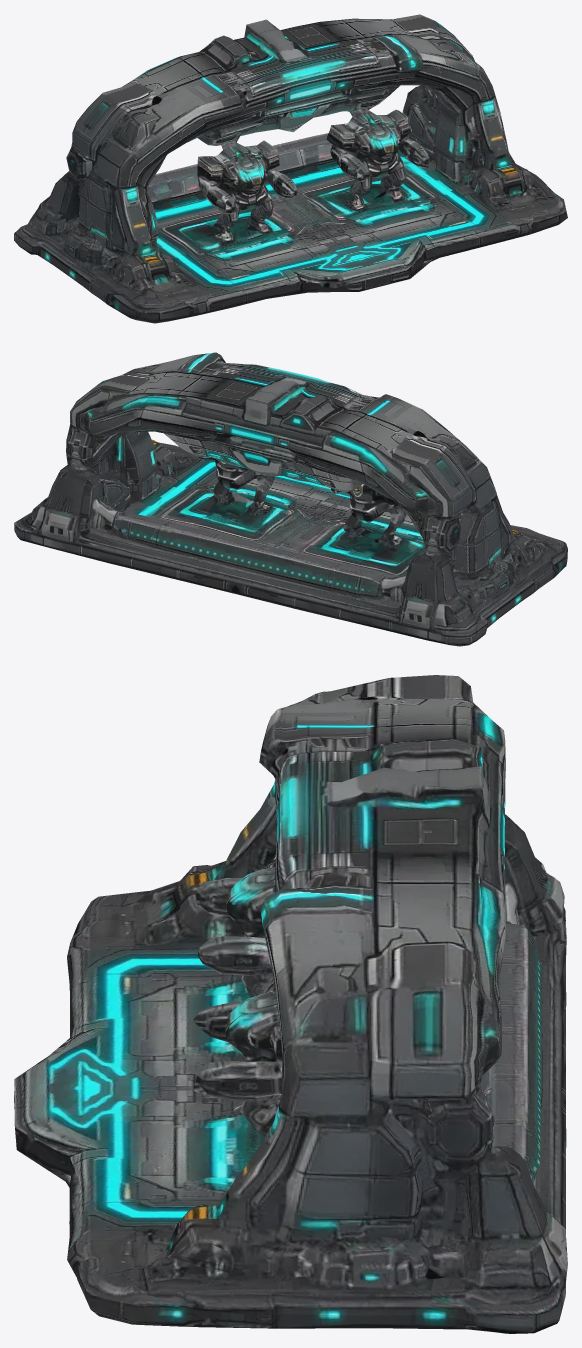
Rendered from army_camp.glb.
3 views of the same model, one above another, from view 1: azimuth 30°, elevation 25°; view 2: azimuth 150°, elevation 25°; view 3: azimuth 270°, elevation 25° (orthographic). The views are drawn at different scales.
Visible parts, largest first — view 1: Mesh0; view 2: Mesh0; view 3: Mesh0.
Part boxes in pixels (left/top/right/bottom): Mesh0: left=14, top=14, right=567, bottom=323; Mesh0: left=14, top=352, right=567, bottom=646; Mesh0: left=14, top=675, right=567, bottom=1333.
Bounding box in the file's own units: 1.91 × 0.7233 × 1.03.
1 material, 1 textured.
